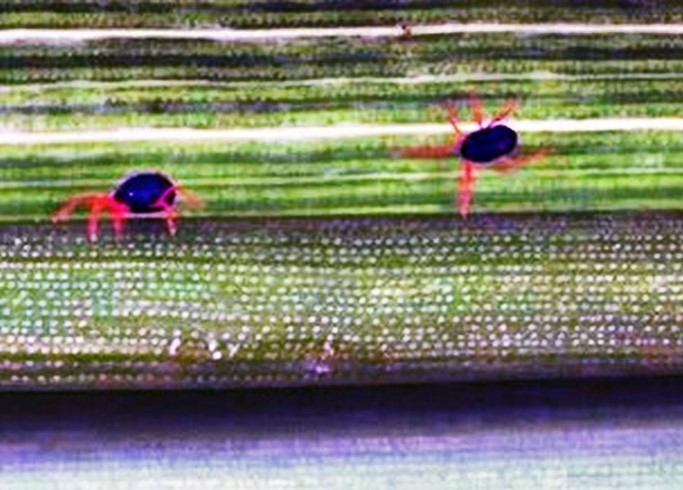Wheat Red Spider: (39, 161, 212, 252)
